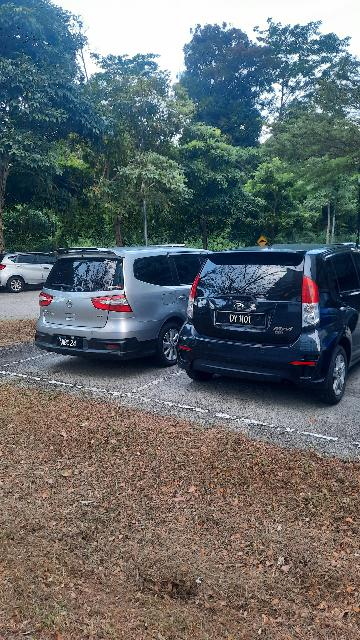License_Plate: (216, 309, 271, 334), (60, 337, 86, 351)
car: (175, 246, 360, 407), (33, 245, 241, 371)
